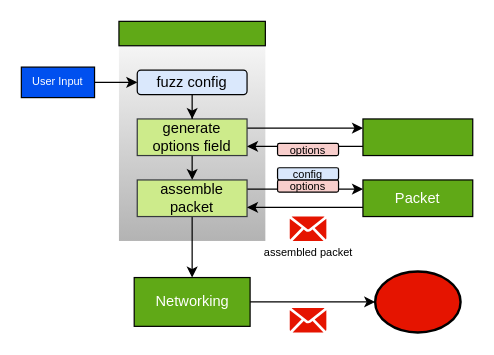
The diagram is 494 pixels wide and 355 high, and some of its shapes have lost their labels. Each missing label, with the centre of its shape:
"Fuzzer" goes at [191,33].
"Generator" goes at [417,137].
"Target" goes at [417,301].
